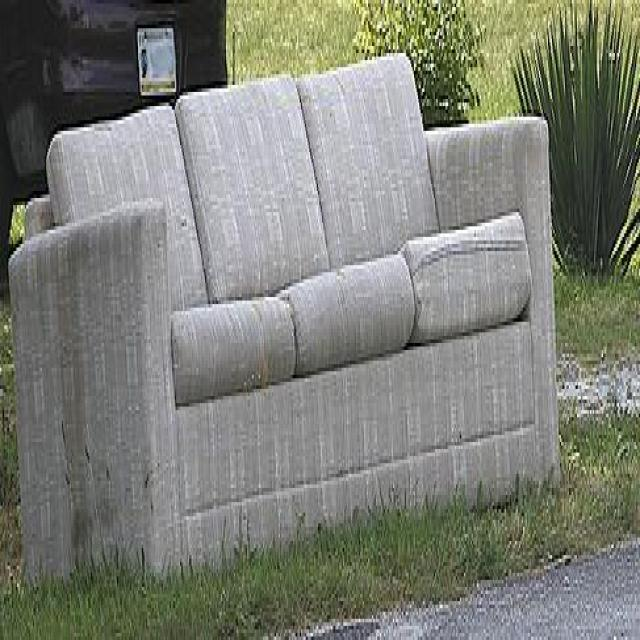sofa: (7, 40, 561, 584)
